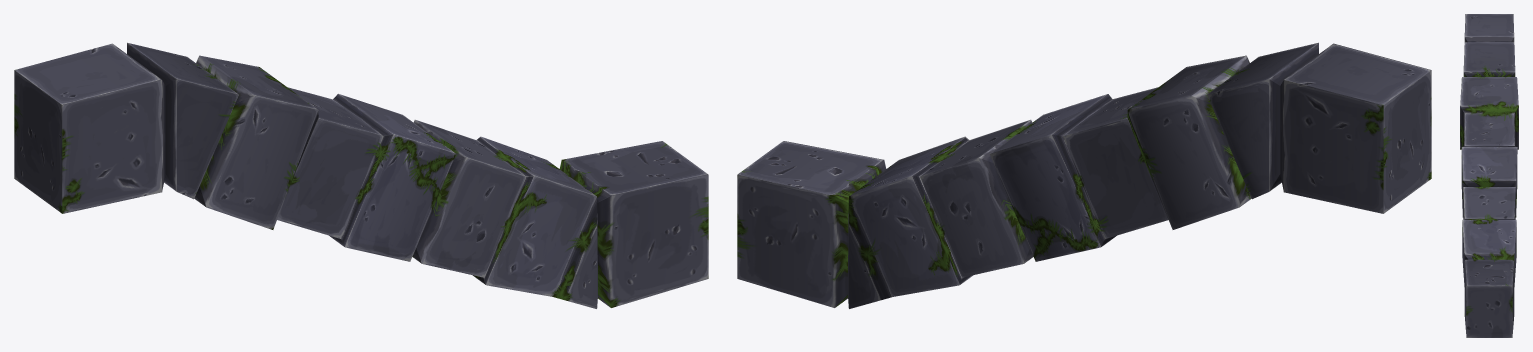
The model's file is MOD_Stairs_01_Railing_3_2.fbx.
3 renders of one model, left to right at view 1: azimuth 30°, elevation 25°; view 2: azimuth 150°, elevation 25°; view 3: azimuth 270°, elevation 25°, orthographic. The views are drawn at different scales.
Visible parts, largest first — view 1: MOD_Stairs_01_Railing_3_2; view 2: MOD_Stairs_01_Railing_3_2; view 3: MOD_Stairs_01_Railing_3_2.
Boxes of the visible parts, x1,y1,x2,y2 form: MOD_Stairs_01_Railing_3_2: [14, 42, 708, 308]; MOD_Stairs_01_Railing_3_2: [737, 42, 1431, 308]; MOD_Stairs_01_Railing_3_2: [1460, 14, 1518, 337].
Size of what is drawn, in the model's own units: 600 by 300 by 94.32.
